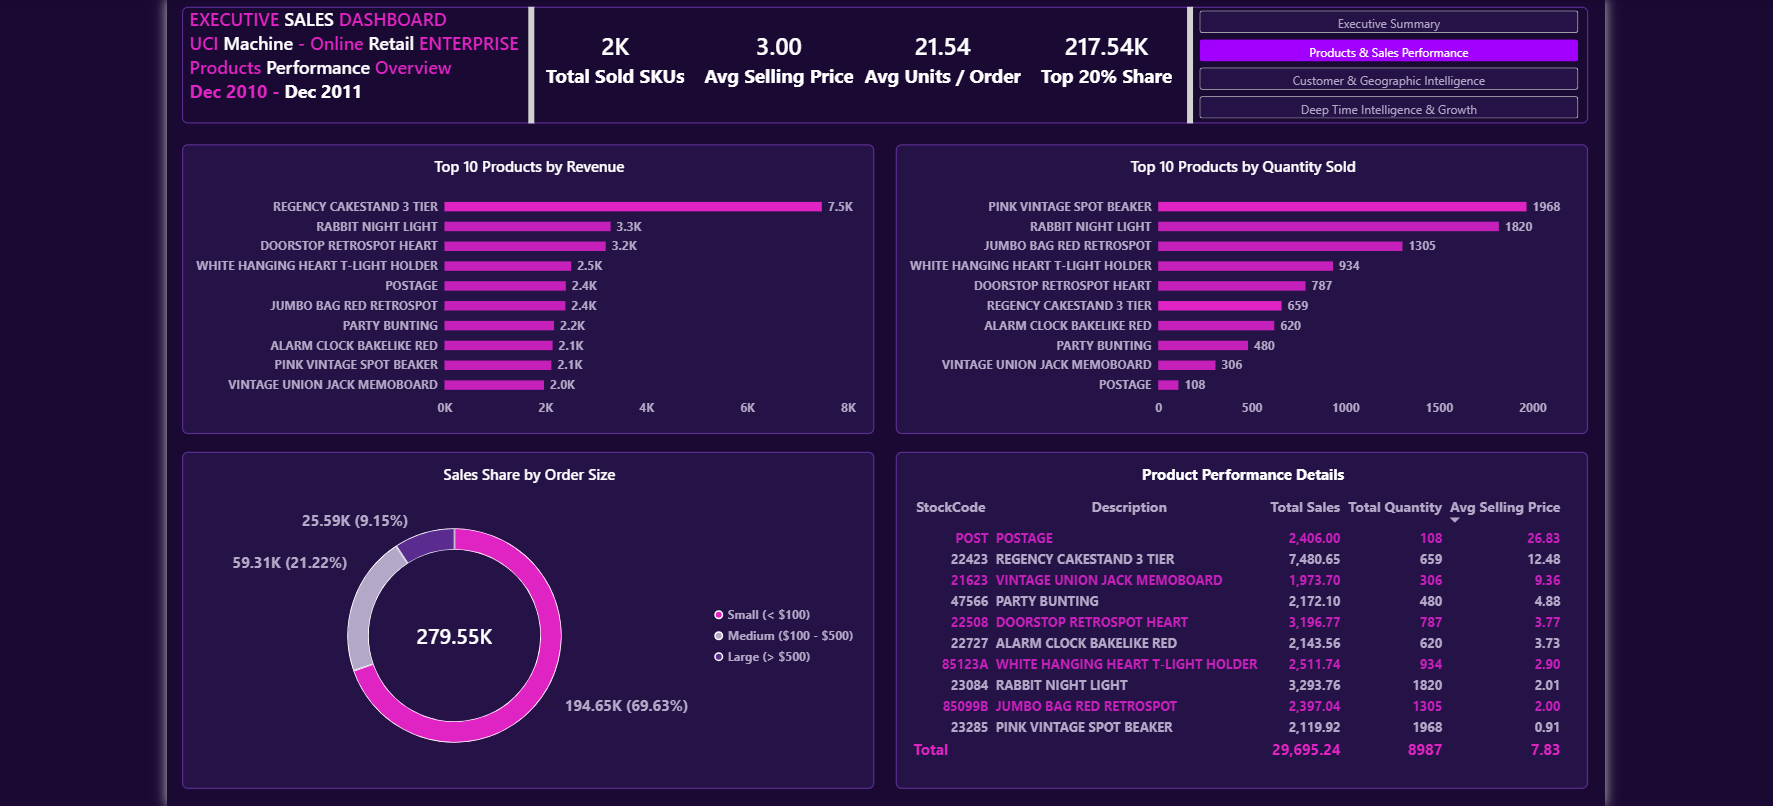

The page's visual inventory and layout, read from the dashboard file:
{"tool":"powerbi","page":{"name":"Products & Sales Performance","canvas":[1920,1080],"ordinal":1},"visuals":[{"type":"shape","box":[20.3,11.9,1878.3,155.8],"z":0},{"type":"textbox","box":[310,930,300,150],"z":1000},{"type":"textbox","box":[1402.4,50.8,13.5,32.2],"z":2000},{"type":"textbox","box":[30.5,11.9,445.5,155.8],"z":3000},{"type":"cardVisual","fields":{"Data":["_Measures.Total Sold SKUs"]},"box":[474.2,33.9,249.7,97.7],"z":4000},{"type":"cardVisual","fields":{"Data":["_Measures.Avg Selling Price"]},"box":[693,33.9,249.7,97.7],"z":5000},{"type":"cardVisual","fields":{"Data":["_Measures.Avg Units Per Order"]},"box":[911.7,33.4,249.7,97.7],"z":6000},{"type":"cardVisual","fields":{"Data":["_Measures.Top 20% Products Sales"]},"box":[1130.4,33.4,249.7,97.7],"z":7000},{"type":"shape","box":[1255.7,11.7,221.9,155.8],"z":8000},{"type":"pageNavigator","box":[1378.7,16.9,506.4,147.4],"z":9000},{"type":"clusteredBarChart","fields":{"Y":["_Measures.Total Sales"],"Category":["Dataset.Description"]},"box":[19.9,195.4,925,387.3],"z":10000},{"type":"shape","box":[375.7,11.7,221.9,155.8],"z":11000},{"type":"donutChart","fields":{"Category":["Dataset.Order Size Category"],"Y":["_Measures.Total Sales"]},"box":[19.9,606.2,924.7,450.6],"z":12000},{"type":"tableEx","title":"Product Performance Details","fields":{"Values":["Dataset.StockCode","Dataset.Description","_Measures.Total Sales","_Measures.Total Quantity","_Measures.Avg Selling Price"]},"box":[973.6,606.2,924.7,450.6],"z":13000},{"type":"clusteredBarChart","fields":{"Y":["_Measures.Total Quantity"],"Category":["Dataset.Description"]},"box":[973.6,195.4,925,387.3],"z":14000}]}

Visuals, with their boxes on the page's 1920x1080 design canvas (x1, y1, x2, y2). These are canvas units, not pixel positions in the 1773x806 screenshot, which may show the page scaled, cropped or inside an application window:
shape: [20, 12, 1899, 168]
textbox: [310, 930, 610, 1080]
textbox: [1402, 51, 1416, 83]
textbox: [30, 12, 476, 168]
cardVisual - _Measures.Total Sold SKUs: [474, 34, 724, 132]
cardVisual - _Measures.Avg Selling Price: [693, 34, 943, 132]
cardVisual - _Measures.Avg Units Per Order: [912, 33, 1161, 131]
cardVisual - _Measures.Top 20% Products Sales: [1130, 33, 1380, 131]
shape: [1256, 12, 1478, 168]
pageNavigator: [1379, 17, 1885, 164]
clusteredBarChart - _Measures.Total Sales x Dataset.Description: [20, 195, 945, 583]
shape: [376, 12, 598, 168]
donutChart - Dataset.Order Size Category x _Measures.Total Sales: [20, 606, 945, 1057]
"Product Performance Details" tableEx: [974, 606, 1898, 1057]
clusteredBarChart - _Measures.Total Quantity x Dataset.Description: [974, 195, 1899, 583]
